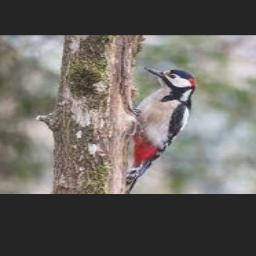Woodpecker: (125, 66, 195, 194)
